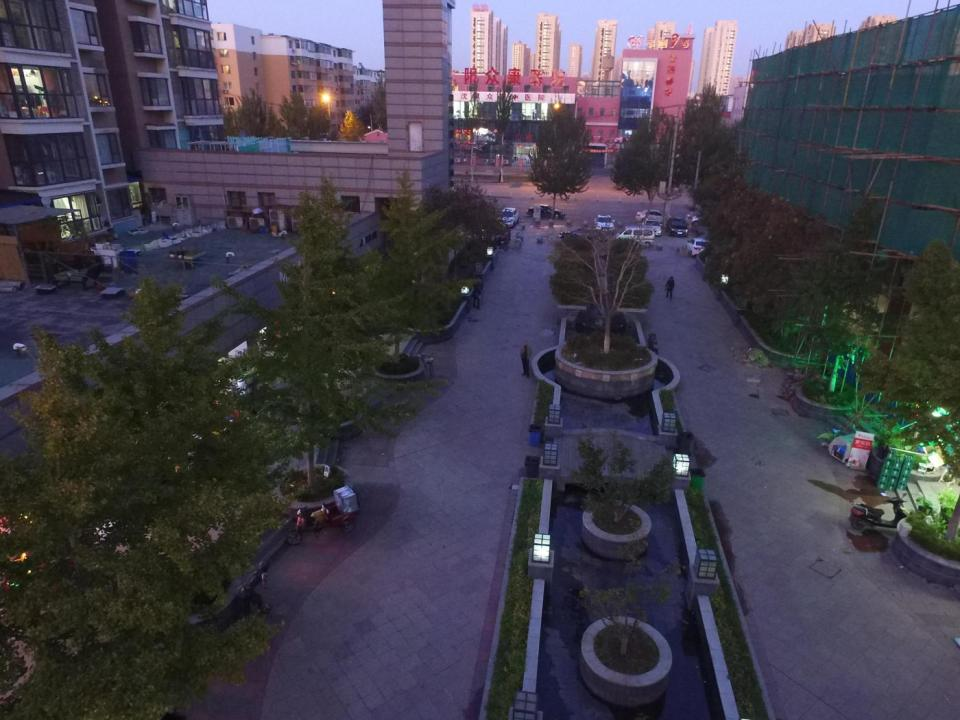car: (555, 226, 609, 244), (526, 203, 566, 220), (634, 207, 672, 224), (686, 236, 712, 258), (496, 205, 519, 227), (687, 208, 716, 225), (484, 222, 513, 239), (666, 217, 689, 238), (593, 212, 617, 232), (645, 219, 664, 236)
van: (612, 225, 658, 250)
